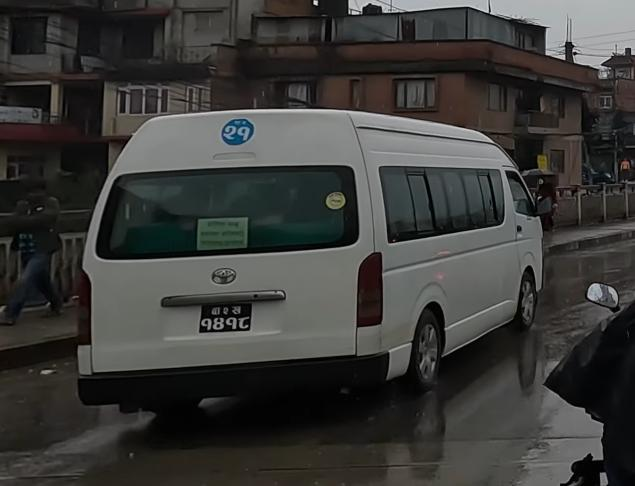micro_bus: (70, 98, 554, 426)
